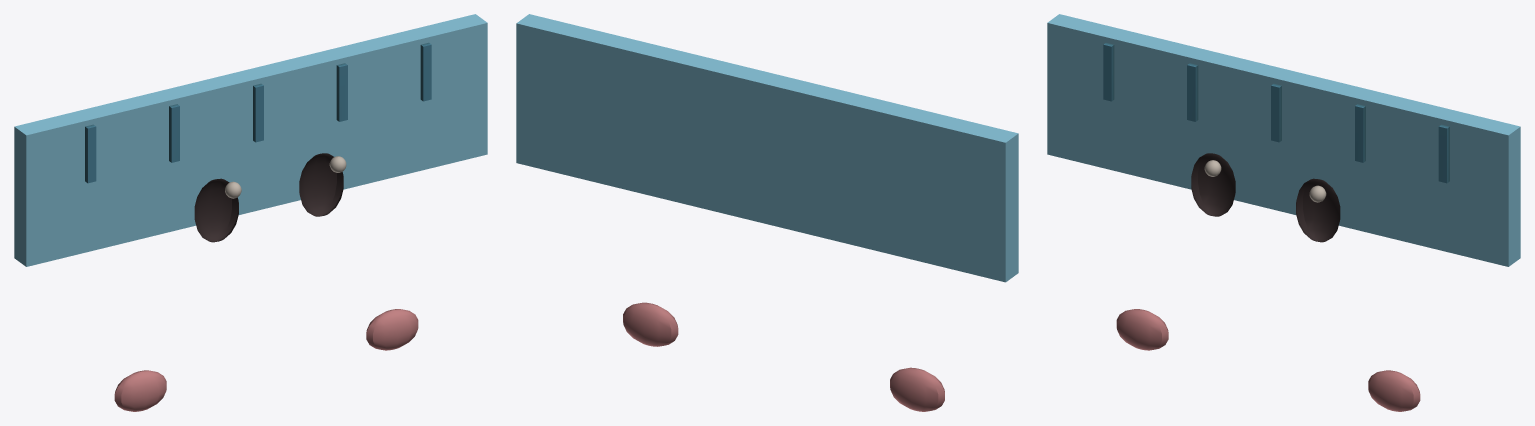
The picture shows the model from 3 angles, left to right: view 1: azimuth 30°, elevation 25°; view 2: azimuth 150°, elevation 25°; view 3: azimuth 330°, elevation 25°; orthographic projection. The views are drawn at different scales.
Visible parts, largest first — view 1: pet_pf25fb370; view 2: pet_pf25fb370; view 3: pet_pf25fb370.
Boxes of the visible parts, box(x1,y1,x2,y2) form: pet_pf25fb370: box(14, 14, 487, 411); pet_pf25fb370: box(516, 14, 1018, 411); pet_pf25fb370: box(1047, 14, 1520, 411).
Bounding box in the file's own units: 0.44 × 0.2676 × 0.0609.
